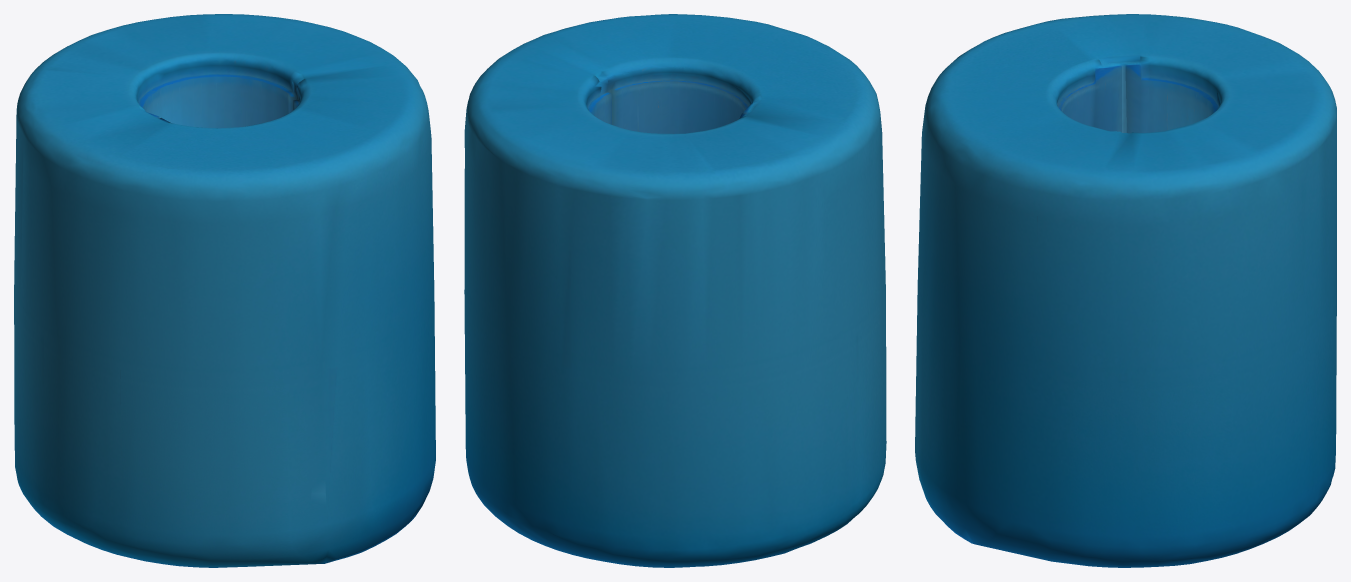
File: blue cylindrical spacer 3d model.glb
3 views of the same model, side by side, from view 1: azimuth 30°, elevation 25°; view 2: azimuth 150°, elevation 25°; view 3: azimuth 270°, elevation 25° (orthographic).
Parts seen in each view (by area): view 1: tripo_node_ceb40200-f557-4596-a5a2-6f49295c139f; view 2: tripo_node_ceb40200-f557-4596-a5a2-6f49295c139f; view 3: tripo_node_ceb40200-f557-4596-a5a2-6f49295c139f.
Part boxes in pixels (x1,y1,x2,y2): tripo_node_ceb40200-f557-4596-a5a2-6f49295c139f: [14, 14, 435, 567]; tripo_node_ceb40200-f557-4596-a5a2-6f49295c139f: [464, 14, 886, 567]; tripo_node_ceb40200-f557-4596-a5a2-6f49295c139f: [915, 14, 1336, 567].
Bounding box in the file's own units: 0.9551 × 0.998 × 0.959.
1 material, 1 textured.
